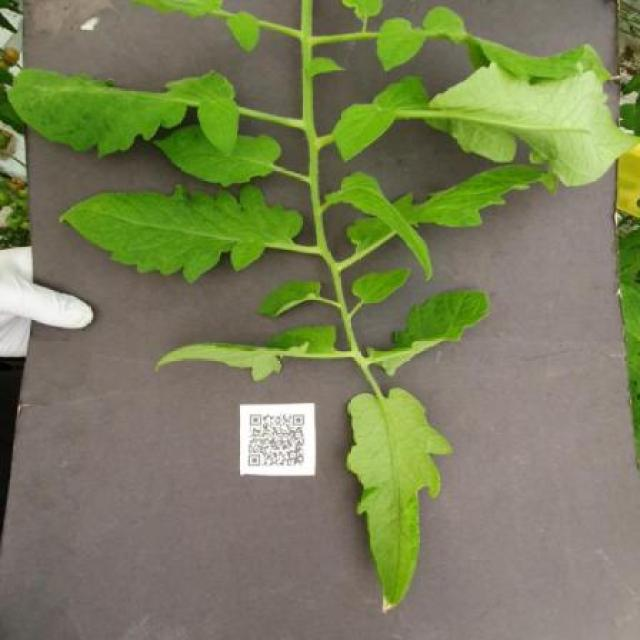Healthy: (53, 183, 306, 280), (346, 392, 454, 617), (2, 59, 241, 154), (152, 128, 294, 183), (333, 100, 394, 163), (373, 15, 431, 78)
